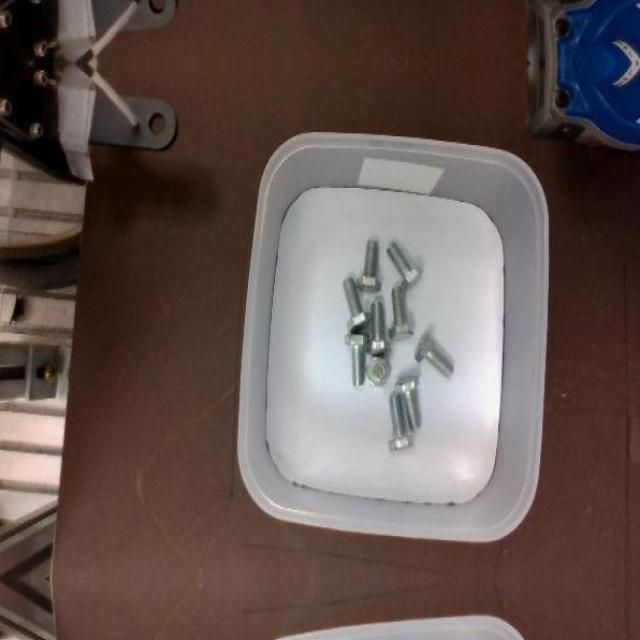screw: (414, 331, 454, 378), (386, 240, 422, 290), (342, 276, 372, 332), (386, 395, 414, 451), (394, 374, 421, 430), (388, 287, 413, 341), (366, 300, 391, 354), (357, 238, 381, 292), (345, 330, 369, 384), (364, 356, 390, 387)
